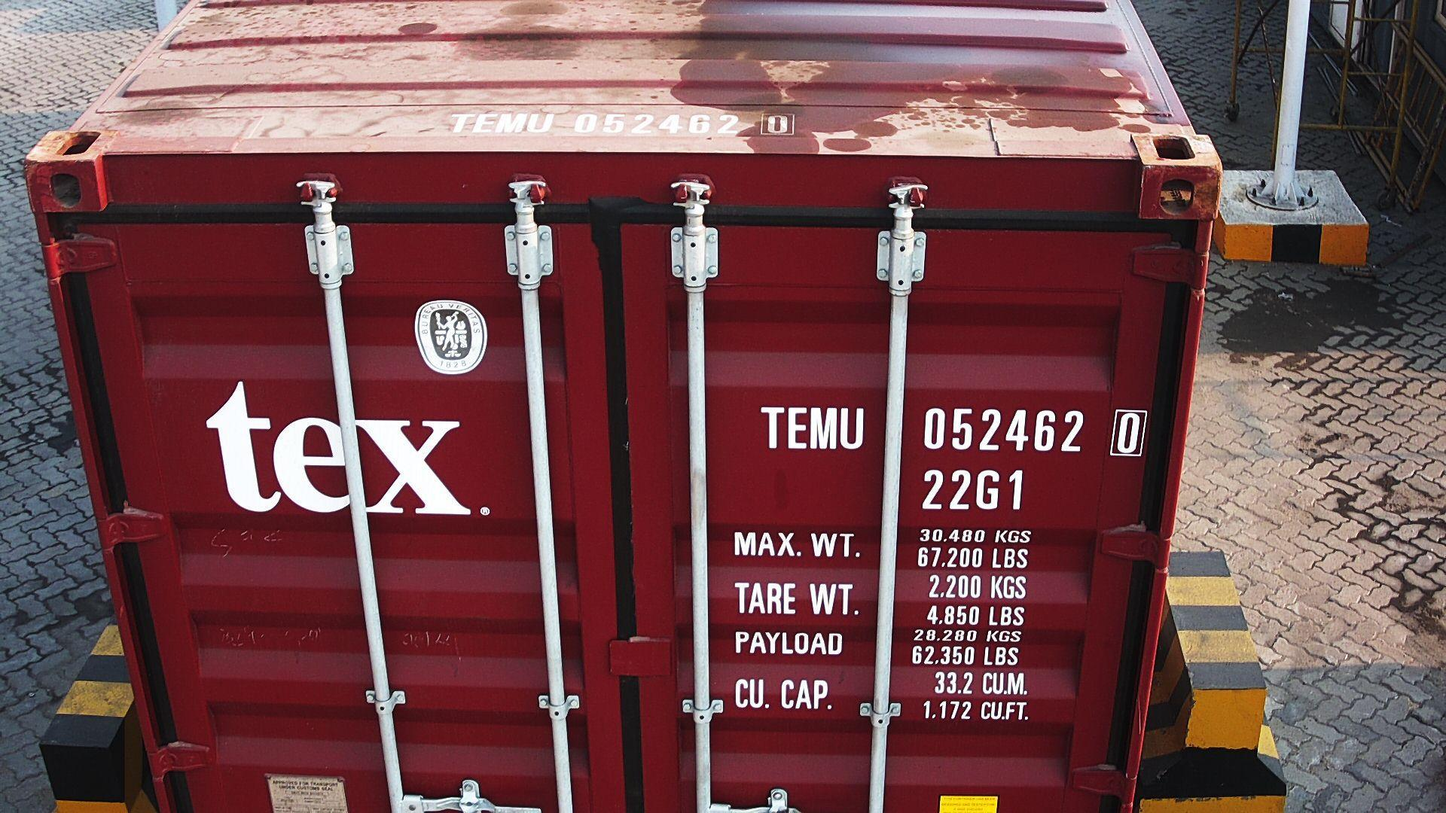container-numbers: (755, 401, 1151, 460), (437, 107, 804, 138), (918, 467, 1029, 515)
